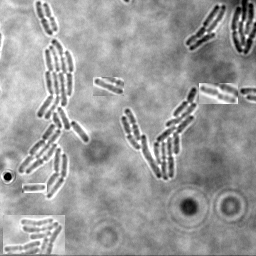Dividing: (199, 83, 238, 104), (34, 1, 52, 37), (41, 3, 57, 33), (22, 183, 47, 193)
Microcolony: (18, 40, 89, 199), (120, 87, 197, 181), (3, 215, 65, 254), (184, 5, 226, 52), (230, 1, 255, 56)
Rod: (93, 77, 124, 96)
